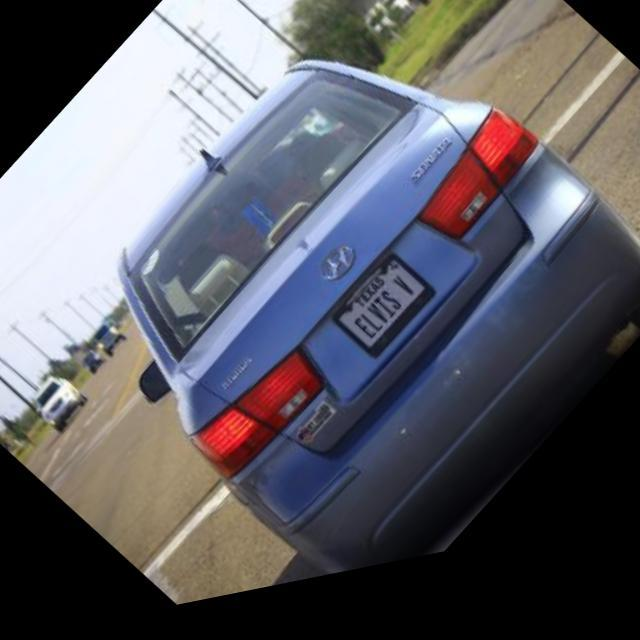license_plate: (337, 266, 426, 368)
